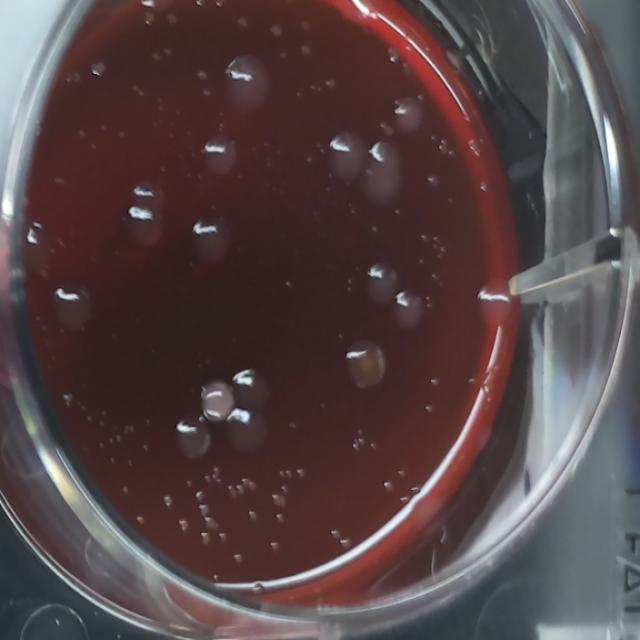Vibrio: (120, 179, 170, 250), (344, 334, 389, 395), (185, 212, 233, 267), (48, 280, 96, 335), (196, 129, 241, 183), (172, 412, 215, 465)
